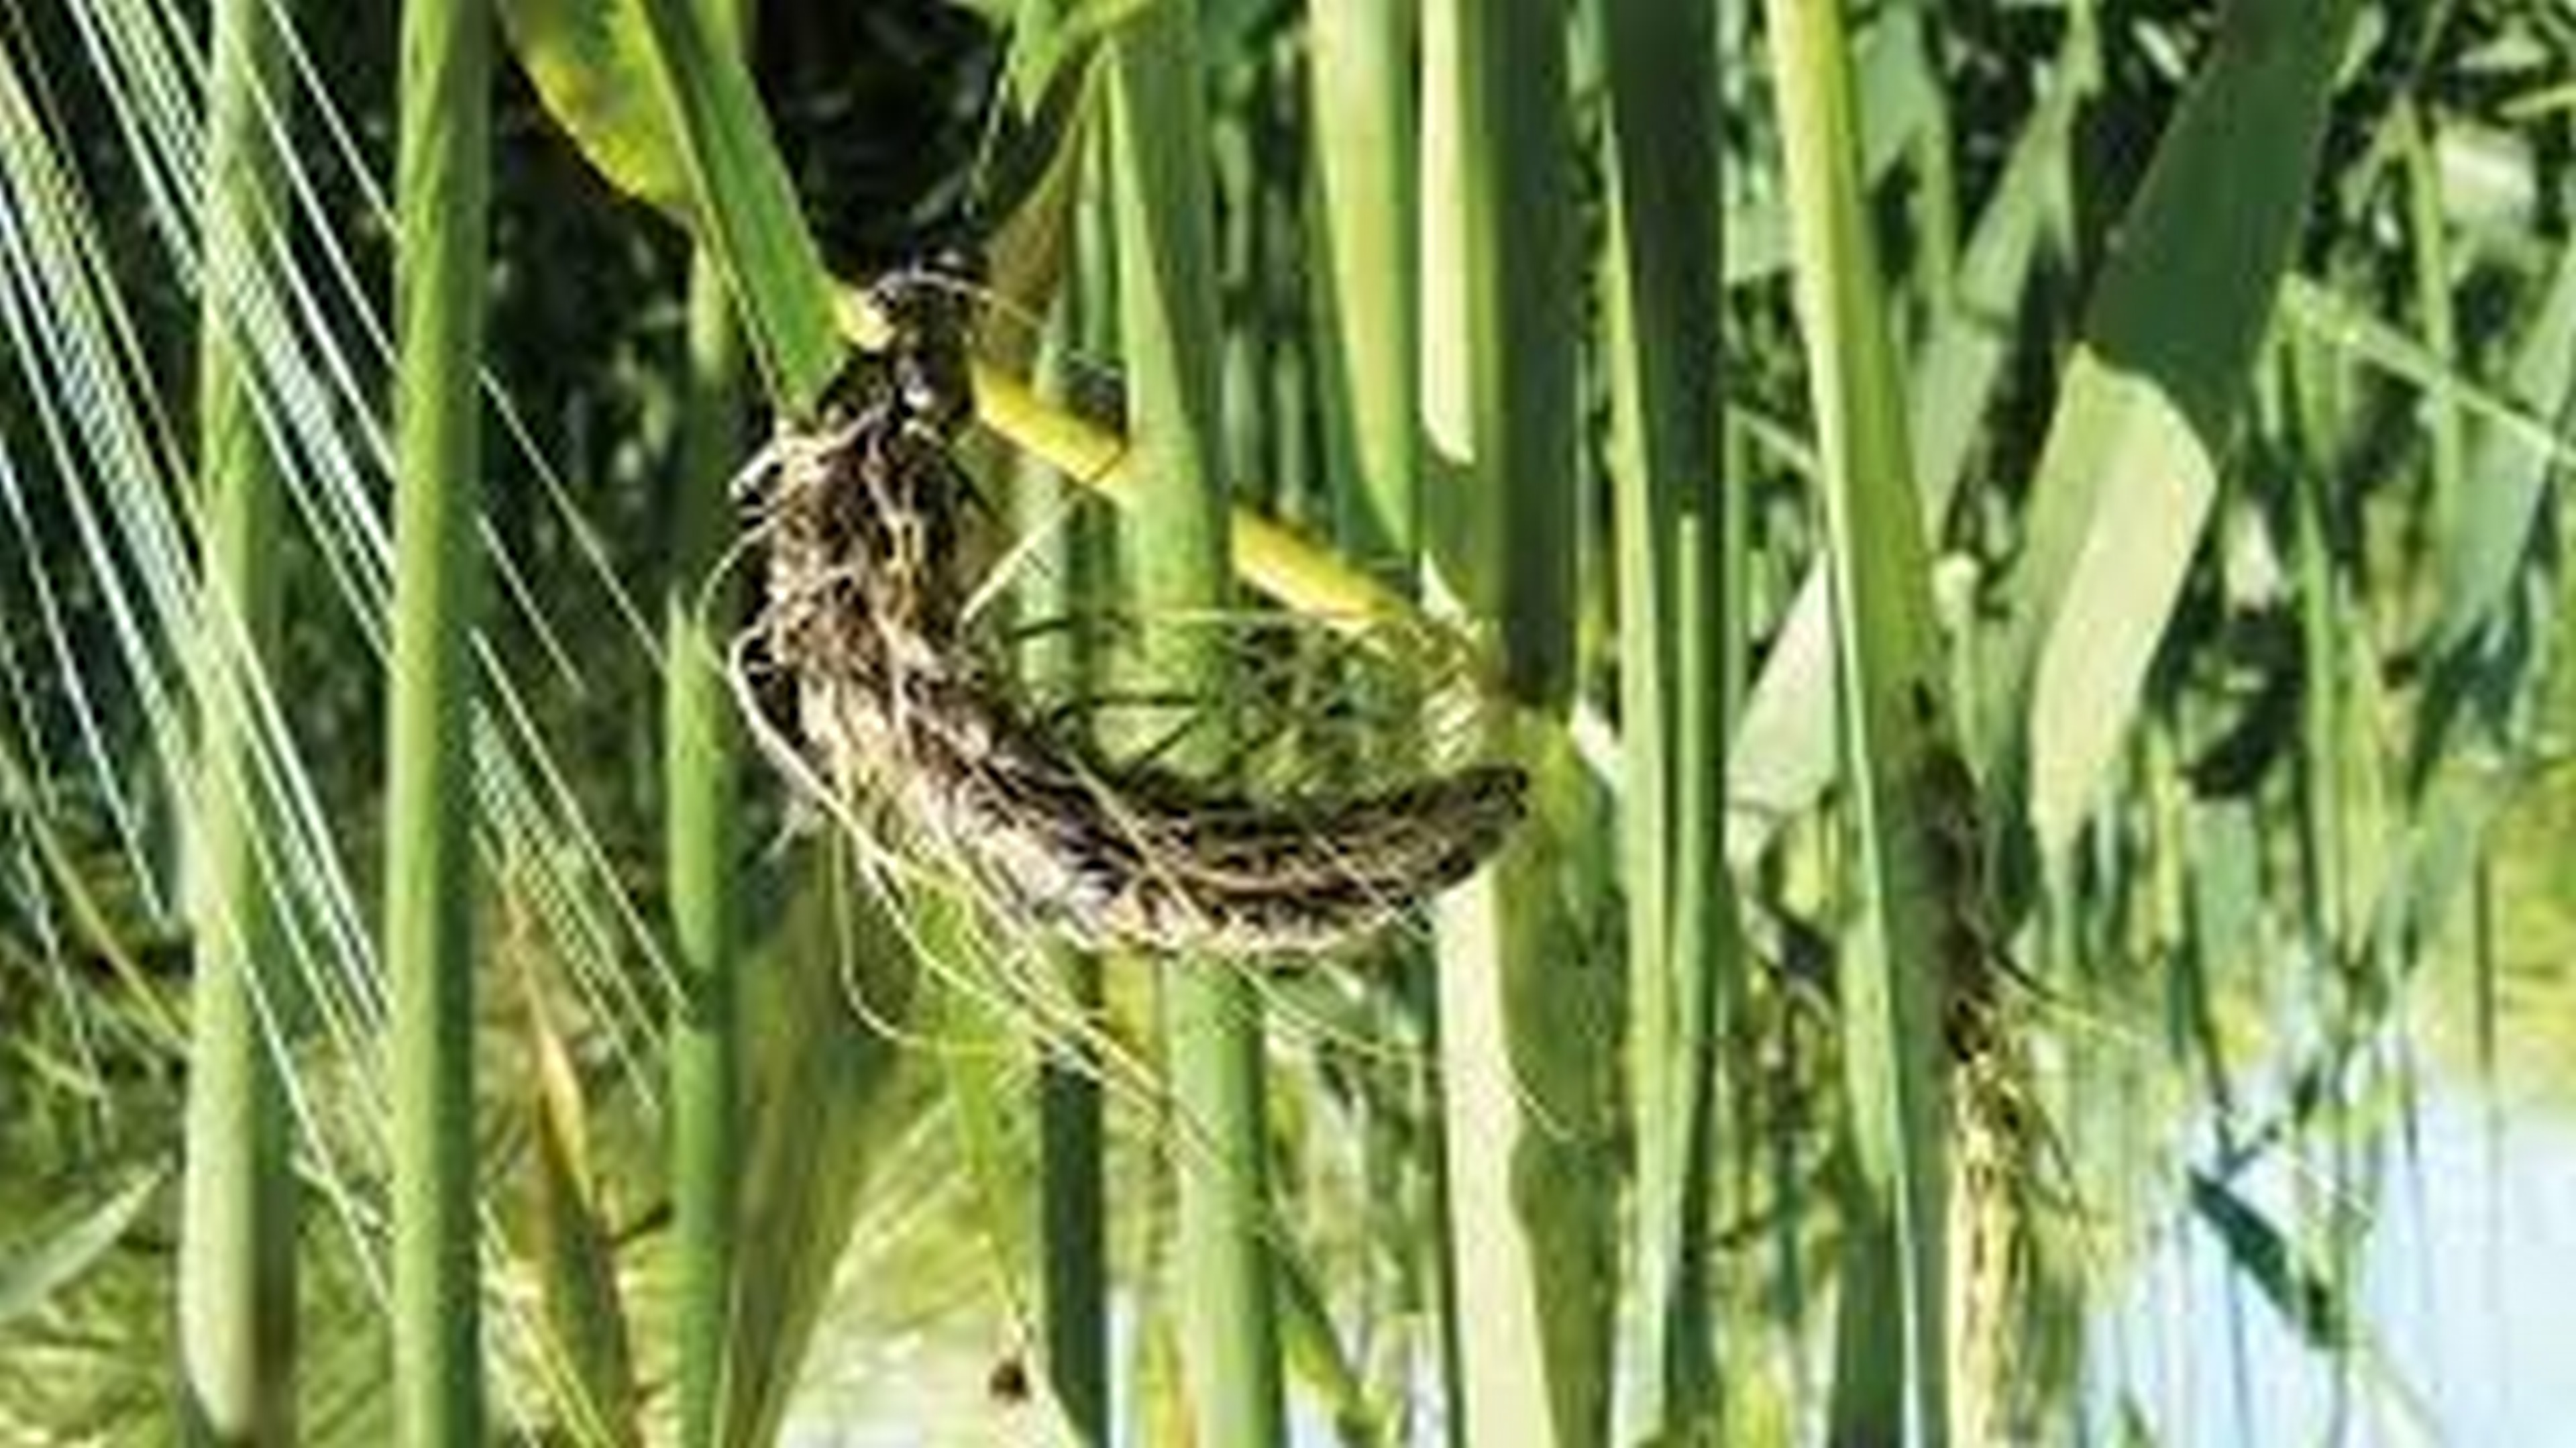Wheat Loose Smut: (757, 329, 1534, 993)
